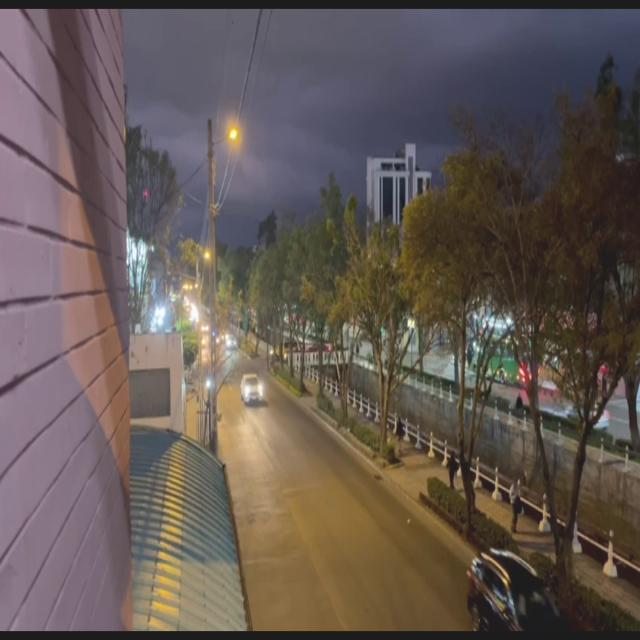SUV: (242, 375, 264, 406)
